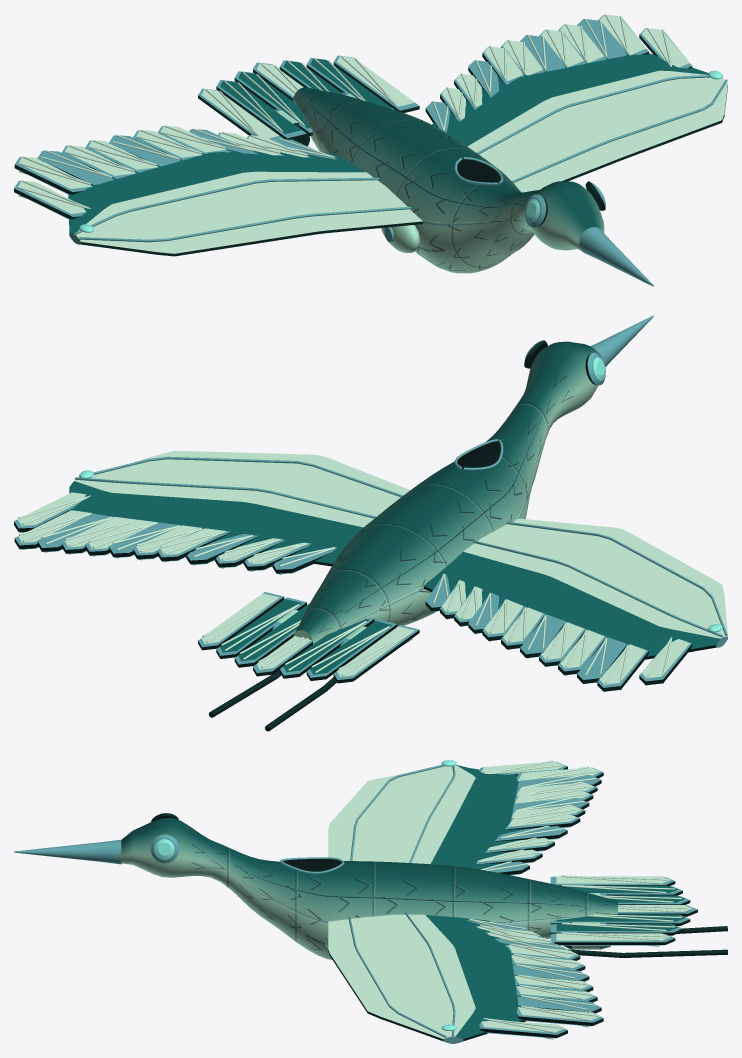
3 views of the same model, one above another, from view 1: azimuth 30°, elevation 25°; view 2: azimuth 150°, elevation 25°; view 3: azimuth 270°, elevation 25° (orthographic). The views are drawn at different scales.
Visible parts, largest first — view 1: egret_hull; view 2: egret_hull; view 3: egret_hull.
Boxes of the visible parts, <box> form: egret_hull: <box>14,14,727,286</box>; egret_hull: <box>14,315,727,731</box>; egret_hull: <box>14,760,727,1043</box>.
Bounding box in the file's own units: 57.92 × 13.44 × 64.
Materials: 1 (1 with a texture image).
